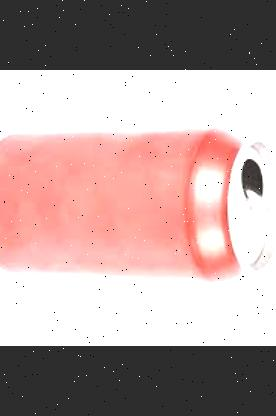Can: (0, 126, 276, 286)
